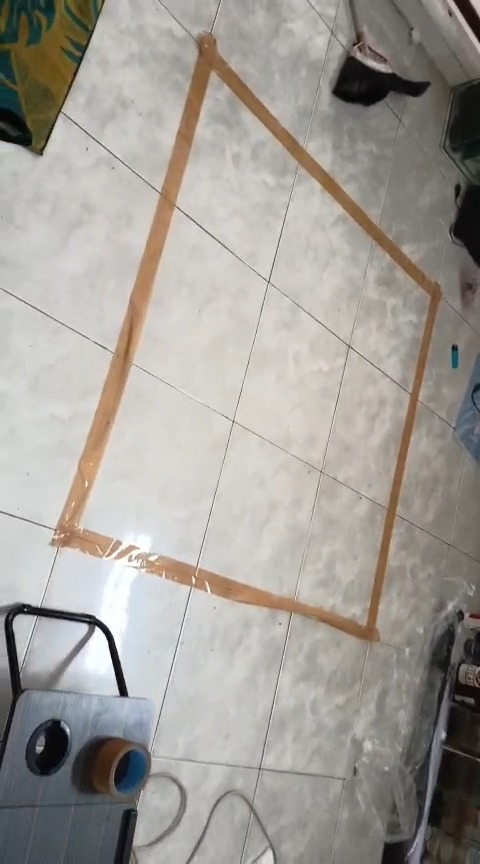floor marking: (52, 33, 439, 640)
